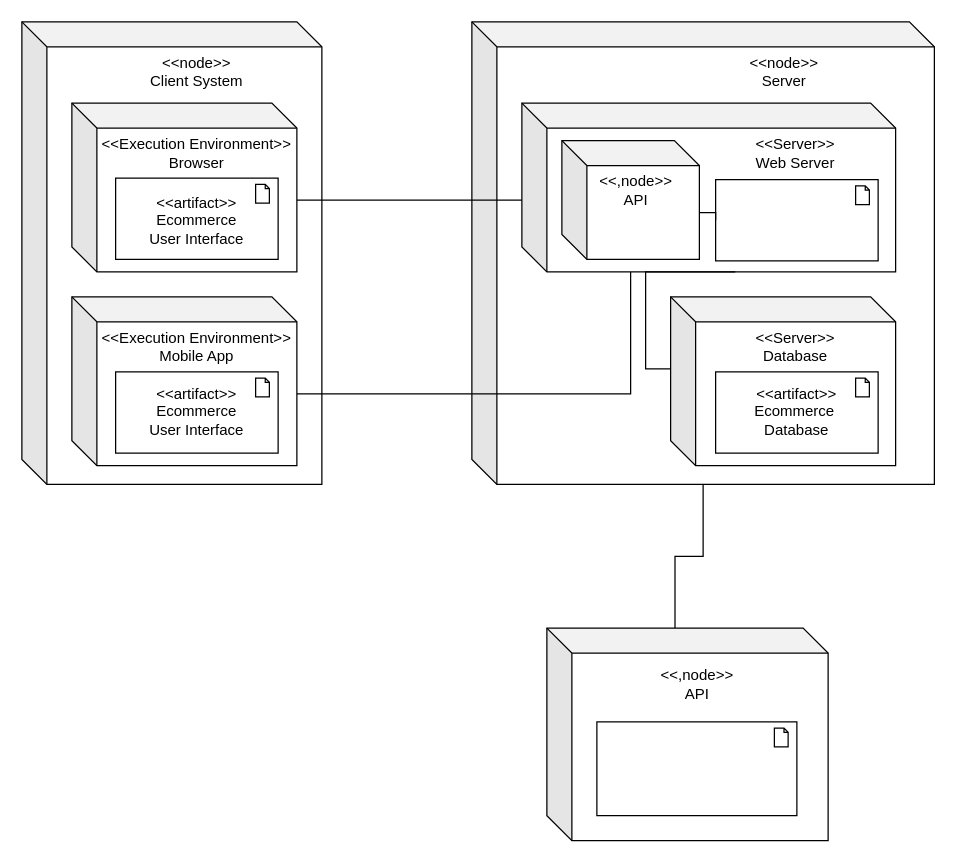
The diagram is 956 pixels wide and 863 high, and some of its shapes have lost their labels. The centre of each missing label's shape, as x and y in pixels:
<<artifact>> Ecommerce Backend: [796,219]
<<artifact>> Payment Gateway: [696,768]
